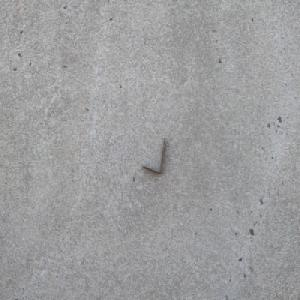MetalPart: (142, 136, 166, 175)
